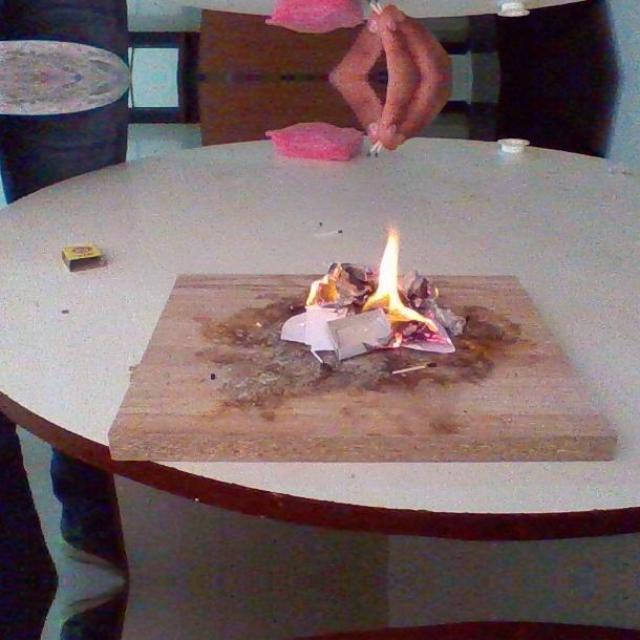smoke: (360, 224, 438, 326), (301, 257, 342, 312)
